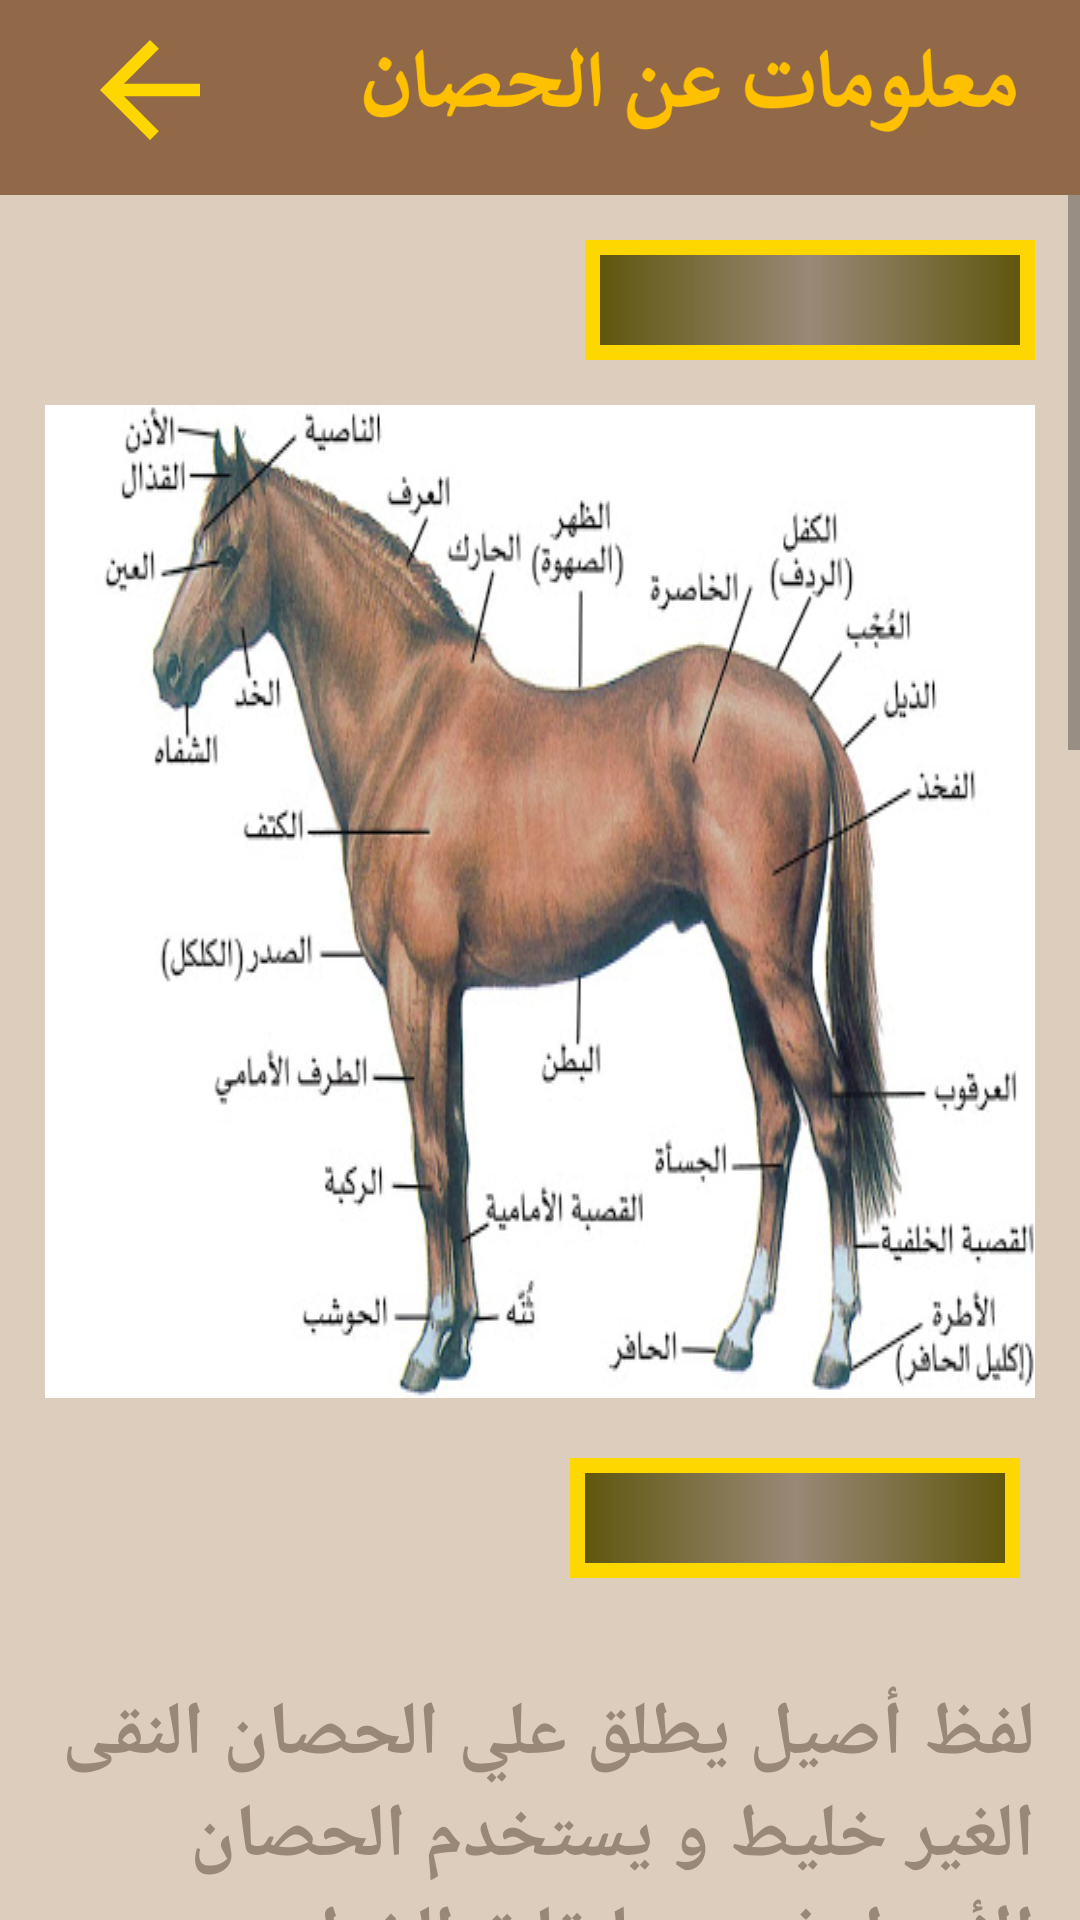

Icons on this 1080×1920 Android screen, each with its box as detection(x1, y1, x2, y2):
arrow back: detection(100, 40, 200, 140)
